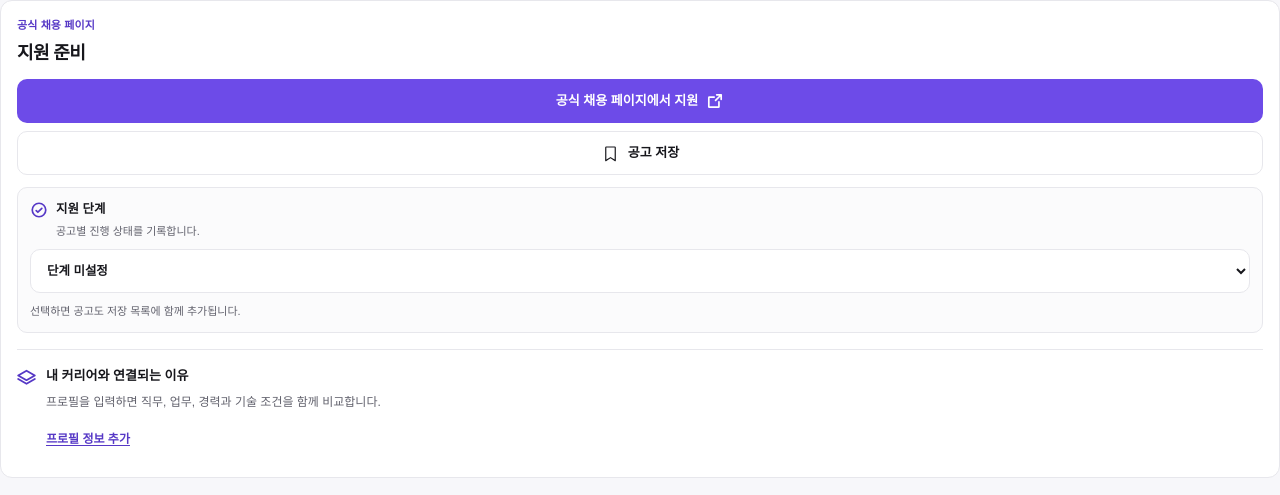
JobDetailActions › records an application stage and keeps the job in the saved library
Select "지원 완료" in the dropdown named "Backend Engineer 지원 단계" at (640, 271), box 30,249 -> 1250,293
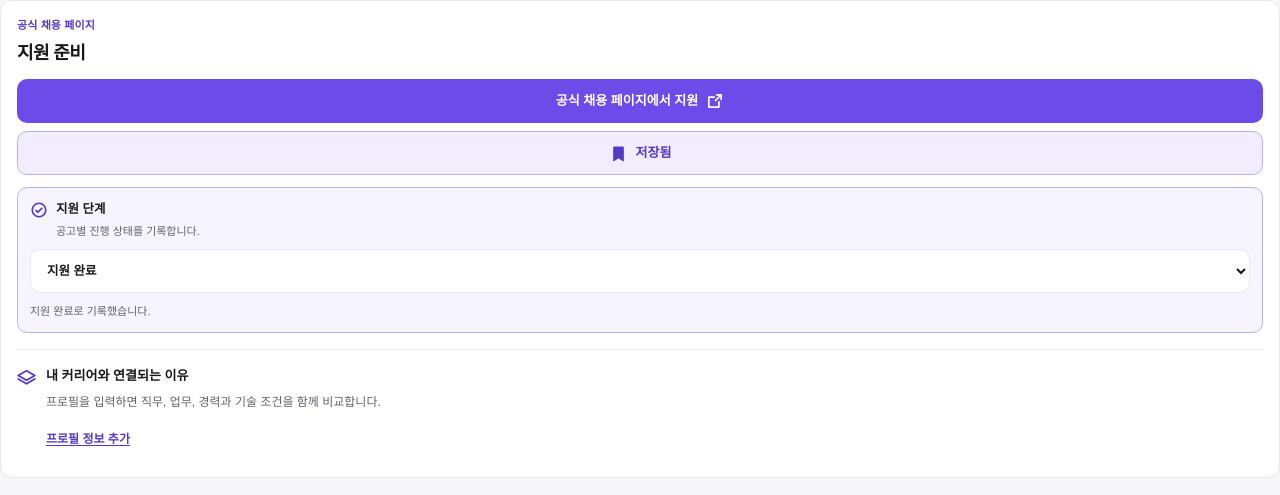
Result: the text "지원 완료로 기록했습니다." is shown at 30,305 -> 150,317
